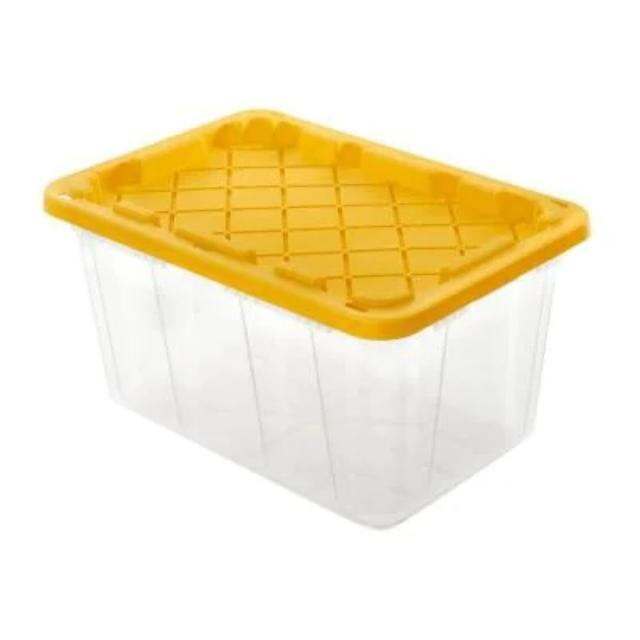plastic: (45, 111, 586, 526)
